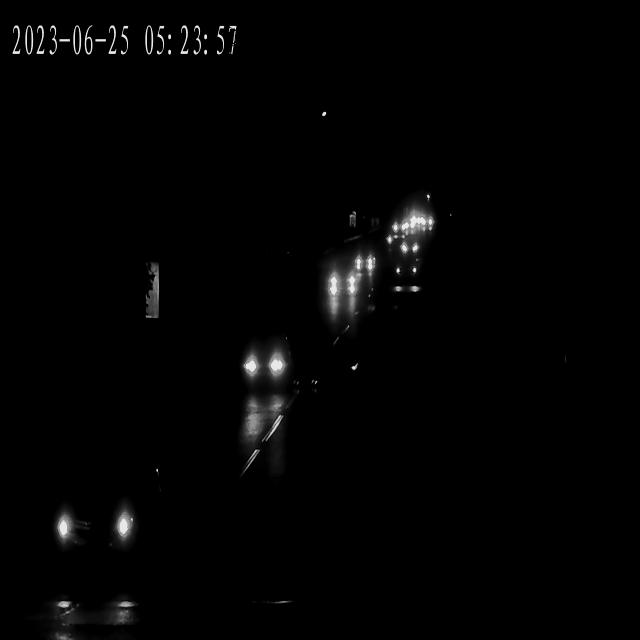Car: (48, 442, 164, 587), (241, 323, 294, 396), (324, 264, 359, 311), (352, 243, 378, 289), (395, 228, 421, 266), (424, 215, 440, 236), (401, 212, 419, 230), (388, 223, 401, 243)
